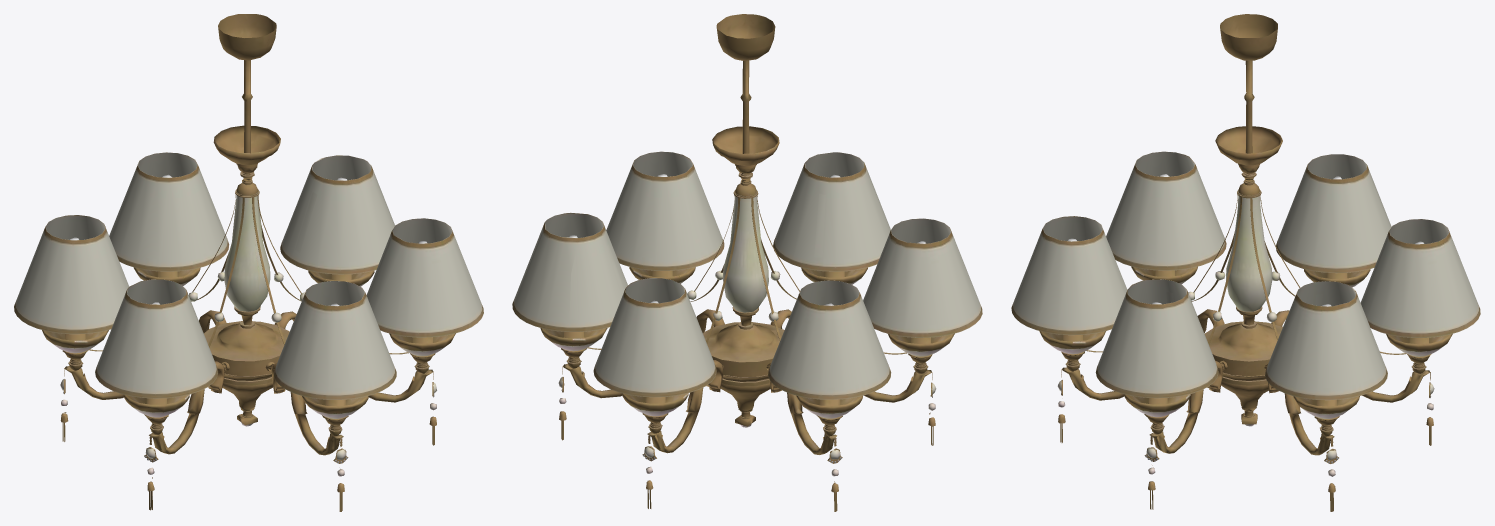
File: Chandelier_01.glb
The picture shows the model from 3 angles, left to right: view 1: azimuth 30°, elevation 25°; view 2: azimuth 150°, elevation 25°; view 3: azimuth 270°, elevation 25°; orthographic projection.
Visible parts, largest first — view 1: Chandelier_01; view 2: Chandelier_01; view 3: Chandelier_01.
Part boxes in pixels (x1,y1,x2,y2): Chandelier_01: (14,14,483,511); Chandelier_01: (512,14,982,511); Chandelier_01: (1011,14,1480,511).
Size of the model in its own units: 0.7465 by 0.7982 by 0.8155.
Materials: 2 (1 with a texture image).
